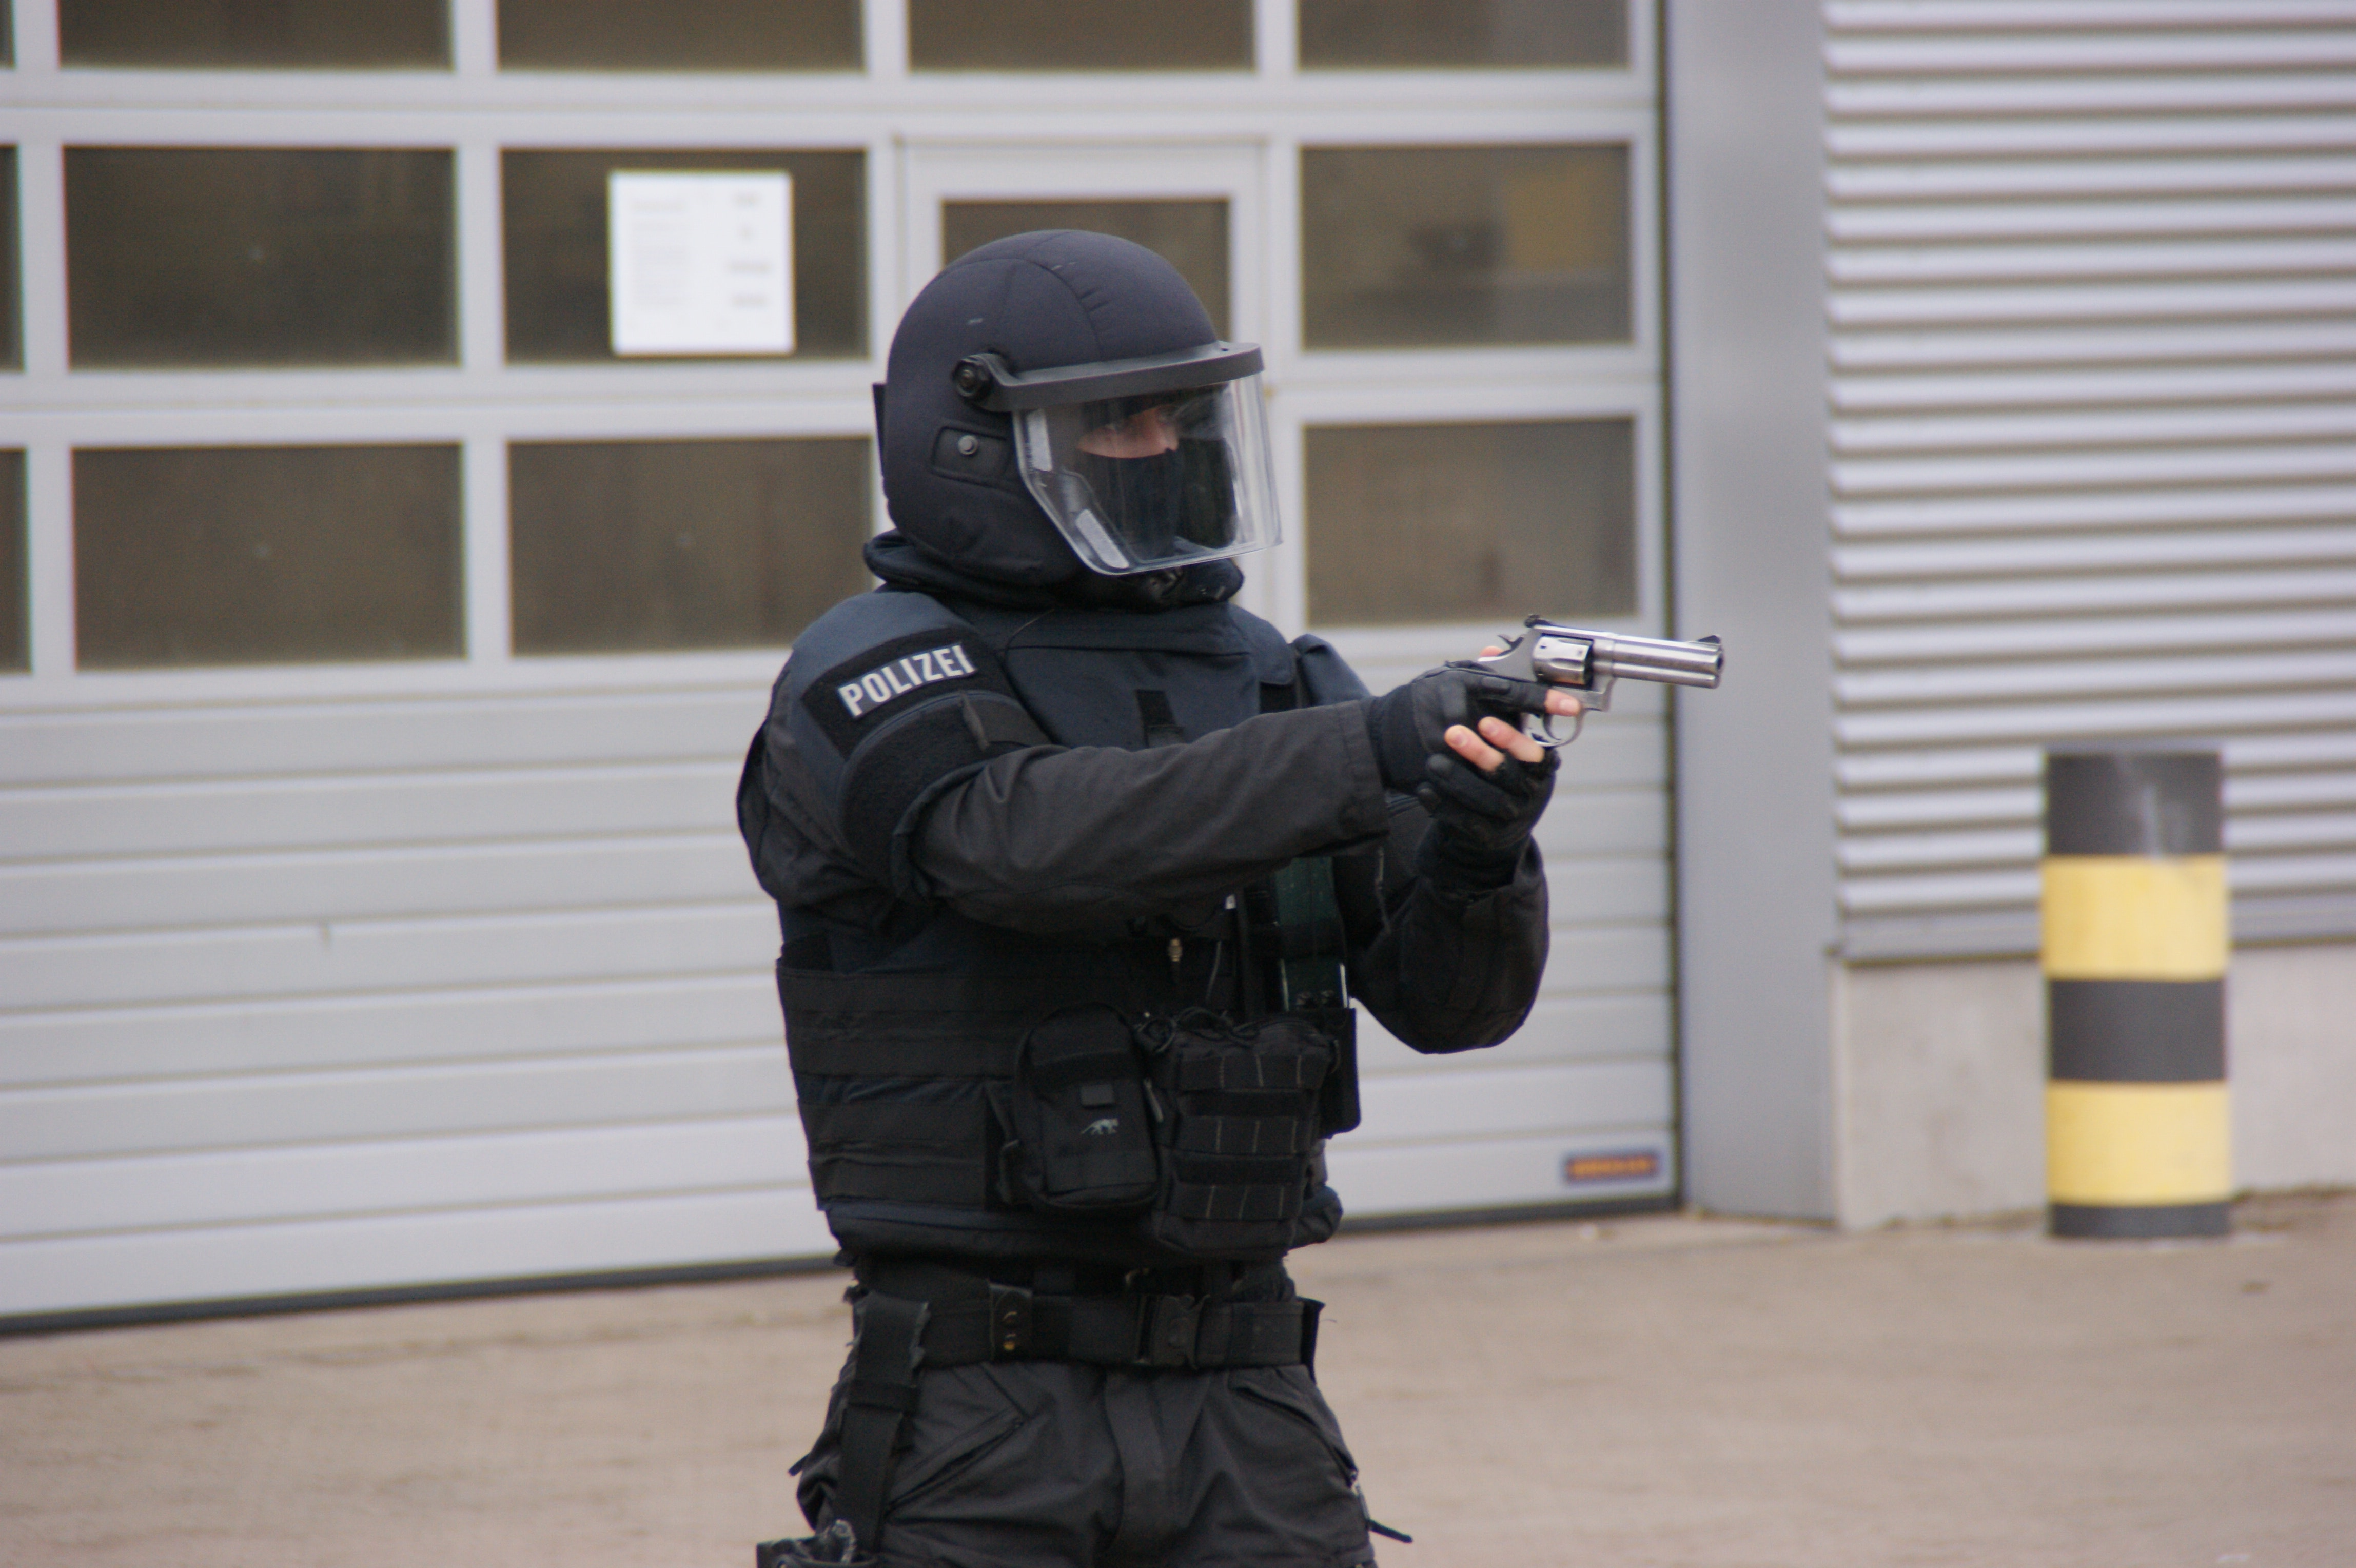gun: (1464, 612, 1739, 759)
person: (728, 213, 1567, 1568)
